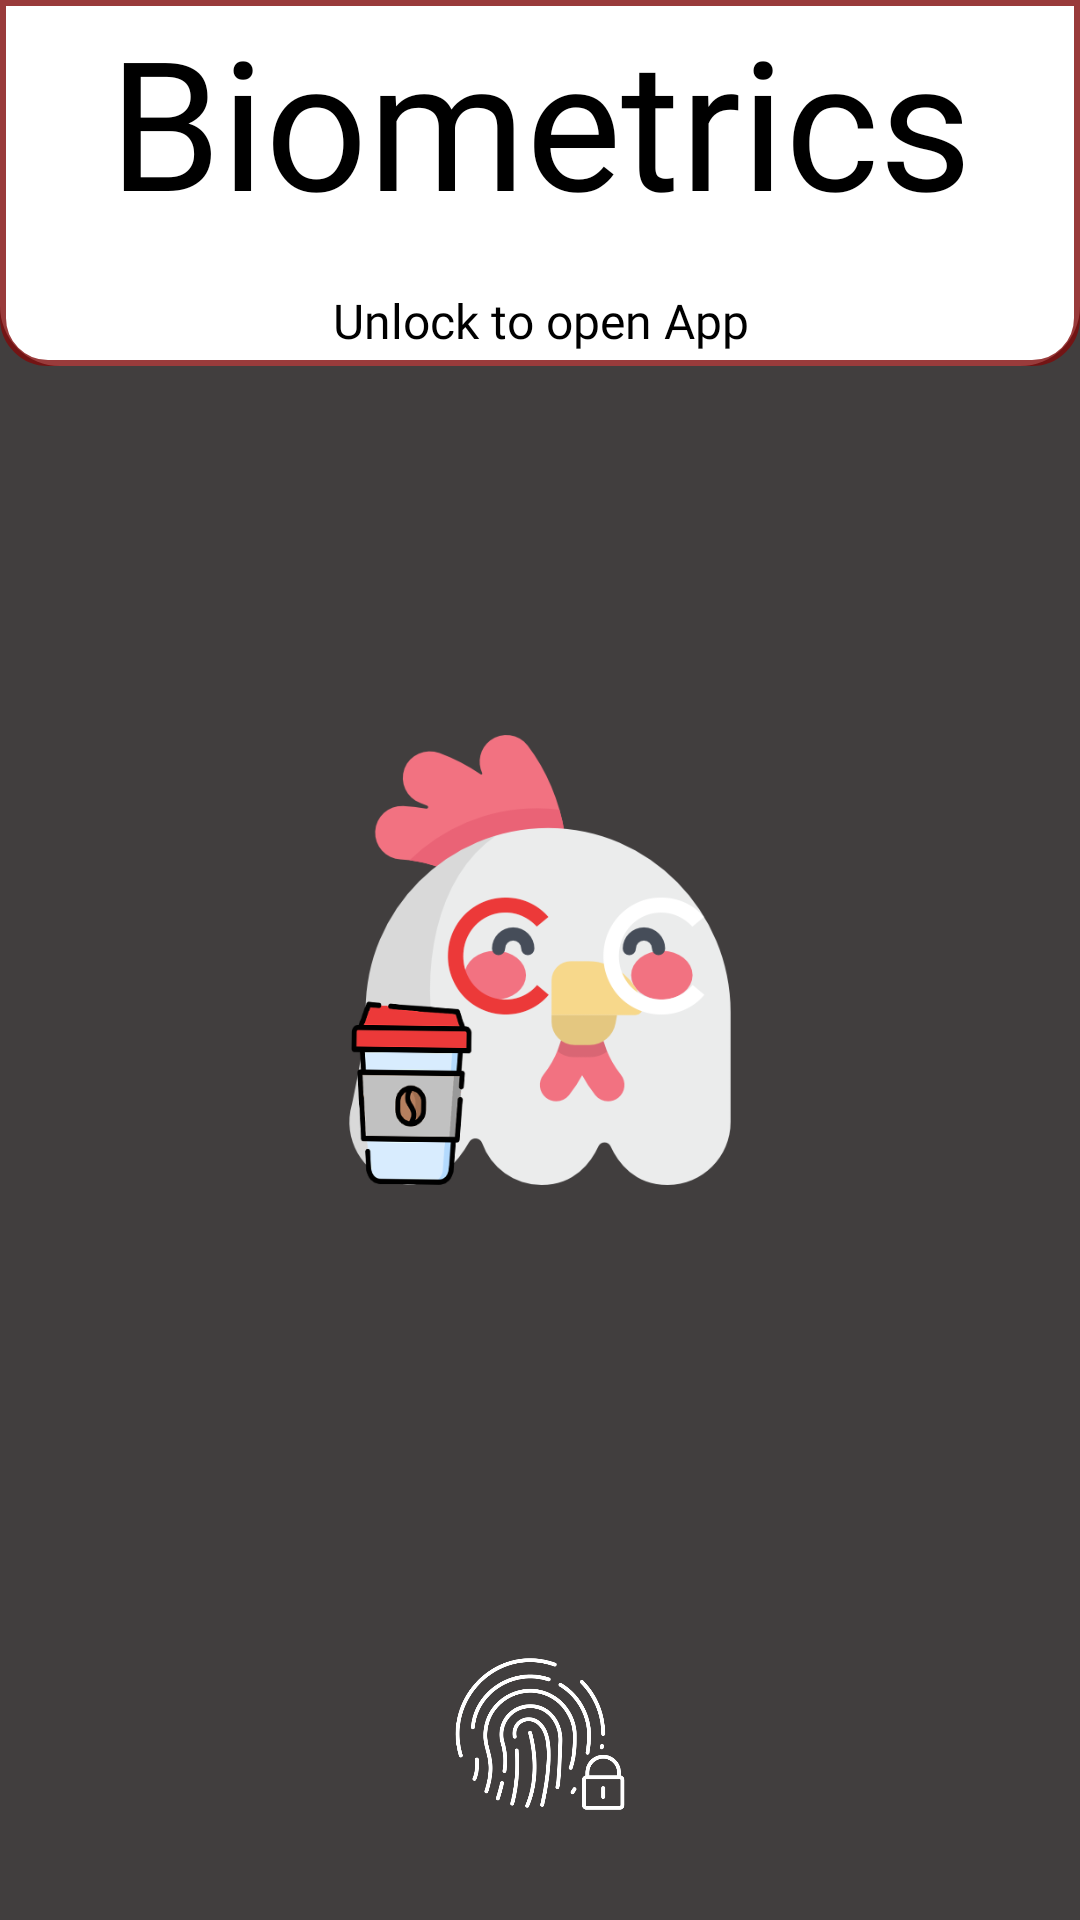

Named icons in this screenshot (1080 x 1920) and their centers, point (x, y):
security system: point (540, 1734)
